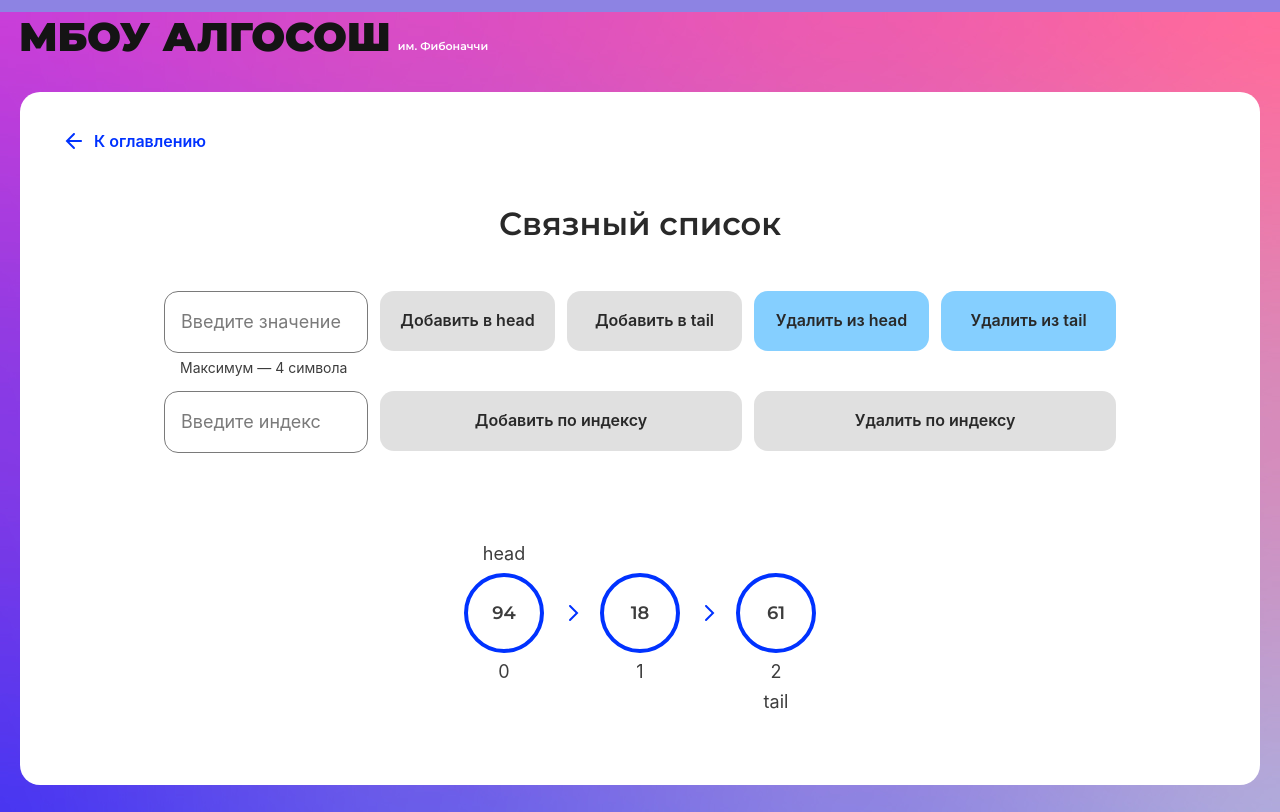
Test: List tests › Add element to tail
This screenshot has width=1280, height=812.
Type "one" into the field with test id "valueInput".
click(266, 322); type("one")  # box [164, 291, 368, 353]
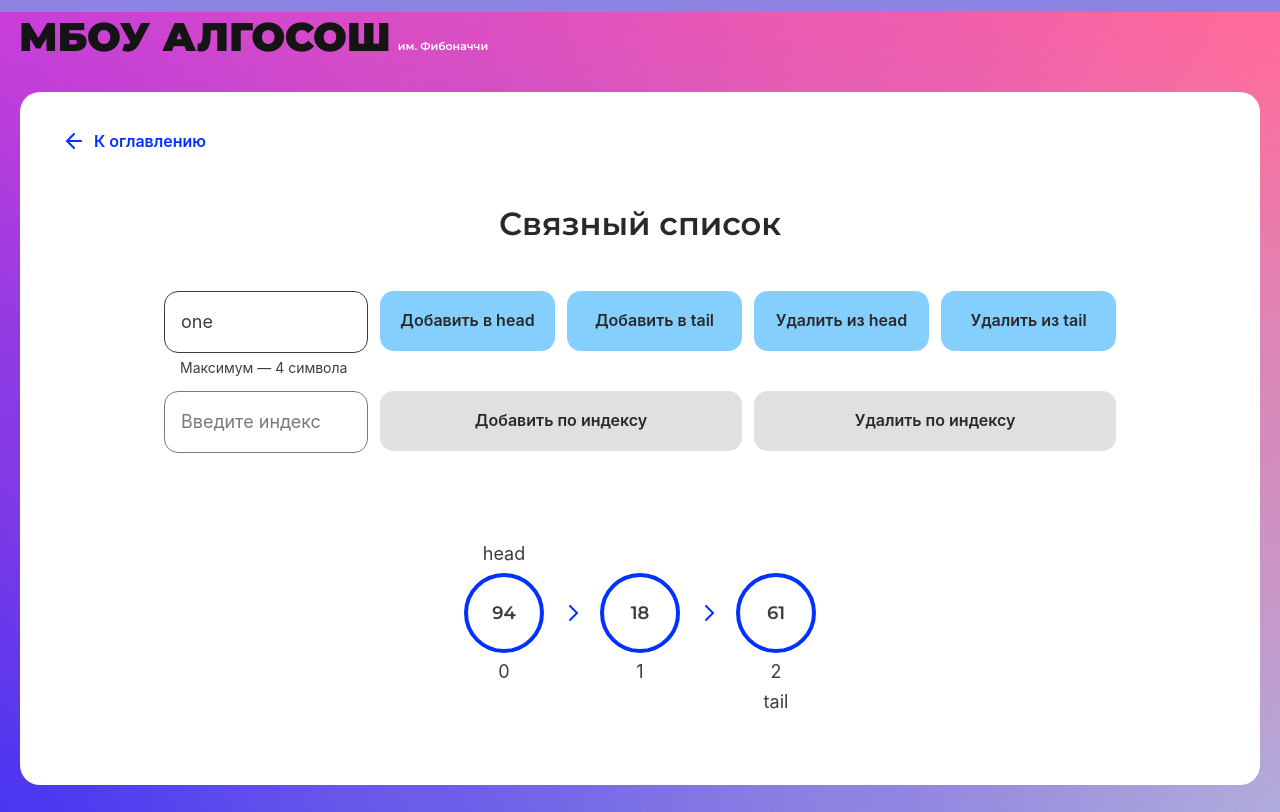
Click the button with test id "addToTail".
click(655, 321)  # box [567, 291, 742, 351]
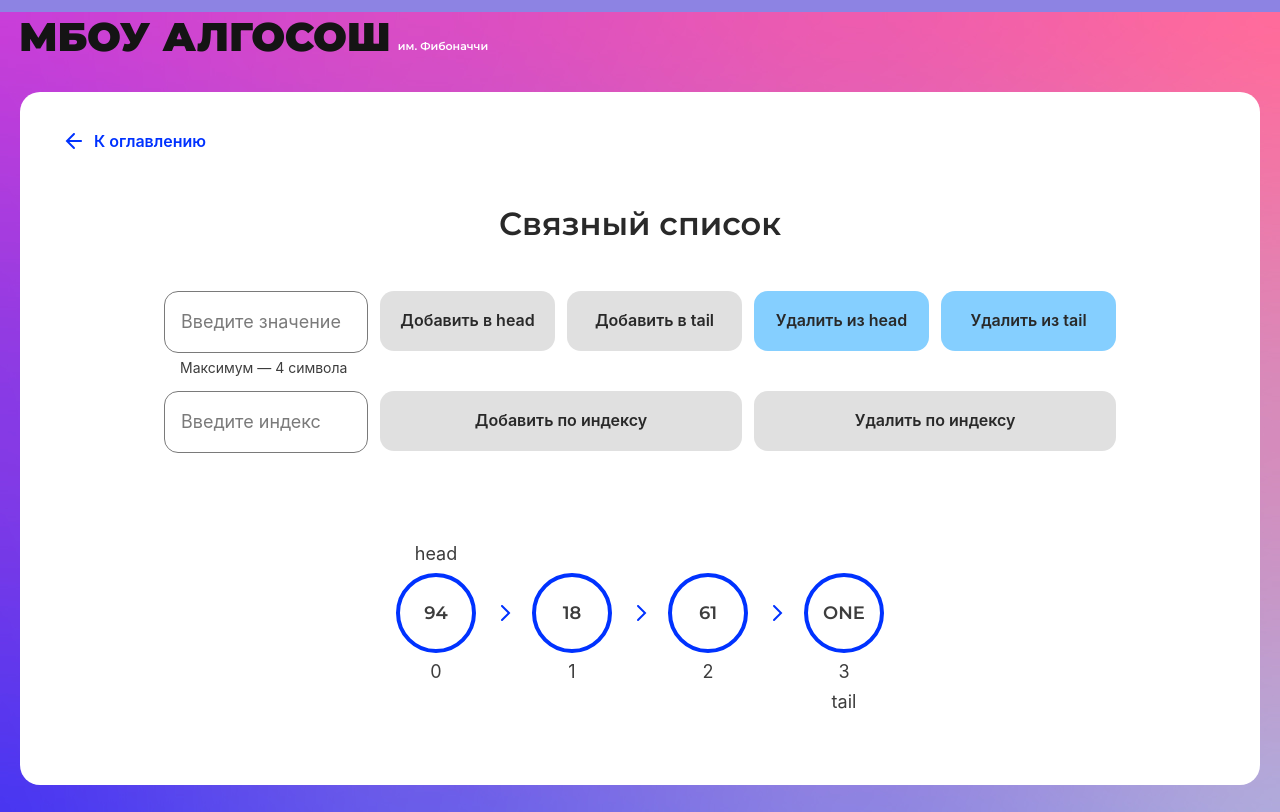
Check: the button with test id "addByIndex" is disabled, box [380, 391, 742, 451]
Check: the button with test id "addToHead" is disabled, box [380, 291, 555, 351]
Check: the button with test id "addToTail" is disabled, box [567, 291, 742, 351]
